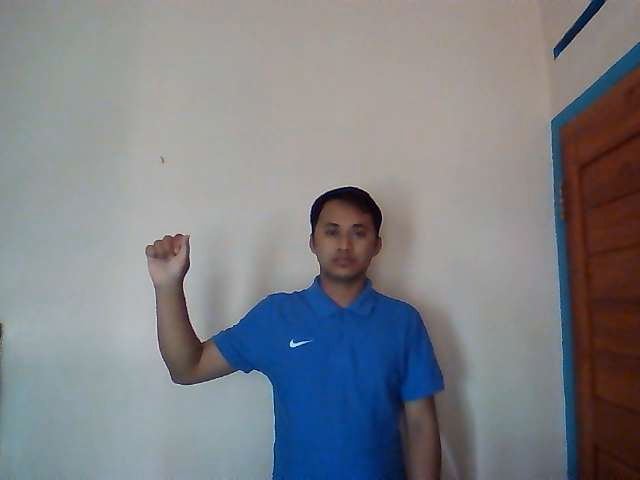A: (145, 233, 192, 283)
